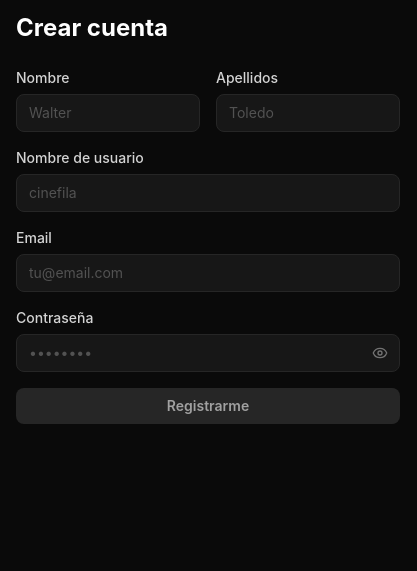
Scenario: AuthForm password rules › reveals and hides the password without submitting the form
Type "SuperSecret123!" into the password field labelled "Contraseña".
click(208, 353); type("SuperSecret123!")  # box [16,334,400,372]
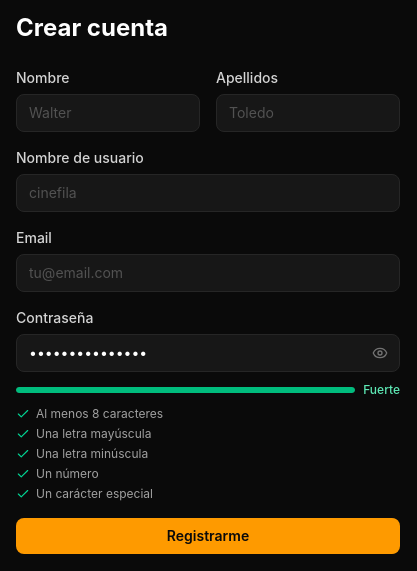
Click the button named "Mostrar contraseña".
click(380, 353)  # box [360,334,400,372]
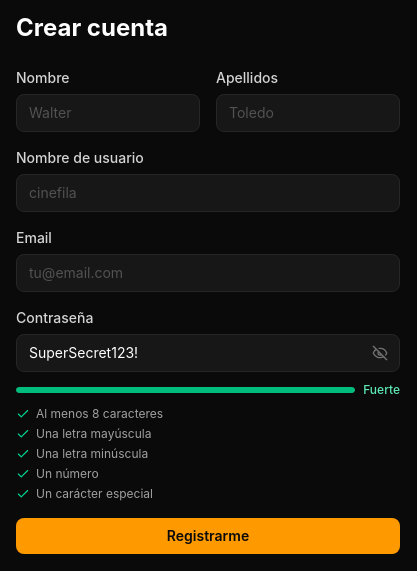
Expected: the field labelled "Contraseña" shows its text, [16,334,400,372]
Click the button named "Ocultar contraseña".
click(380, 353)  # box [360,334,400,372]
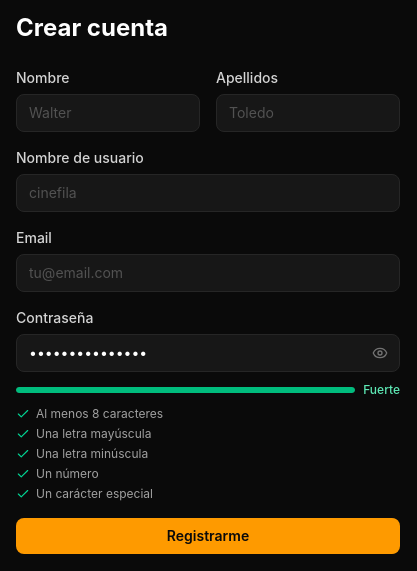
Expected: the password field labelled "Contraseña" hides its text, [16,334,400,372]
